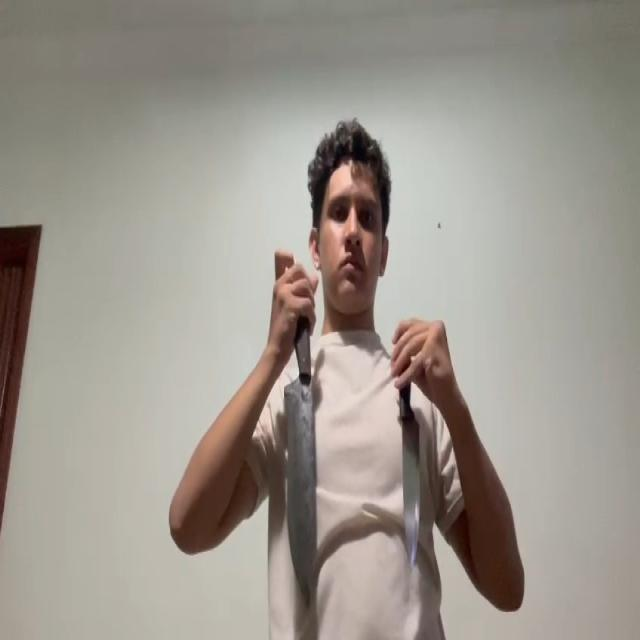knife: (284, 374, 317, 608), (401, 416, 421, 572)
